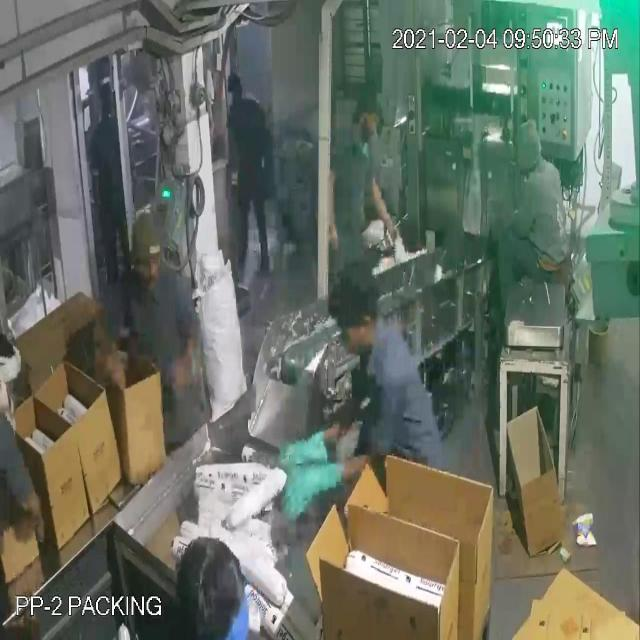No_Gloves: (24, 70, 384, 510)
